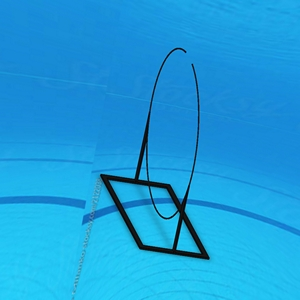circle: (98, 46, 215, 263)
